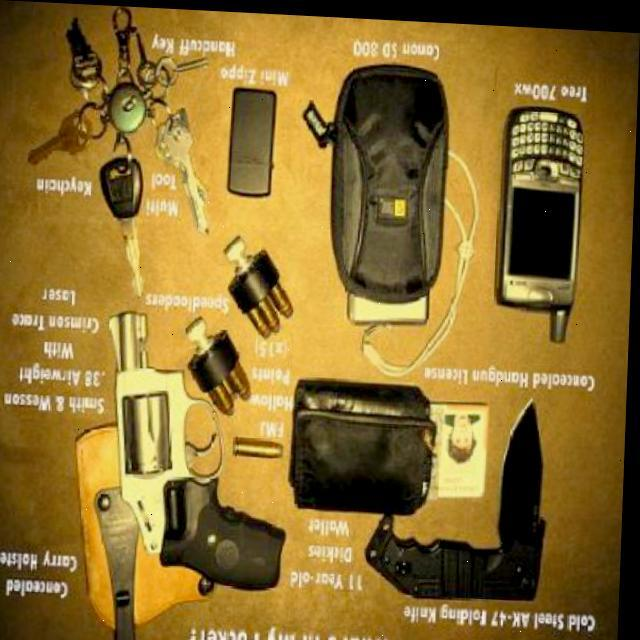gun: (105, 305, 291, 595)
